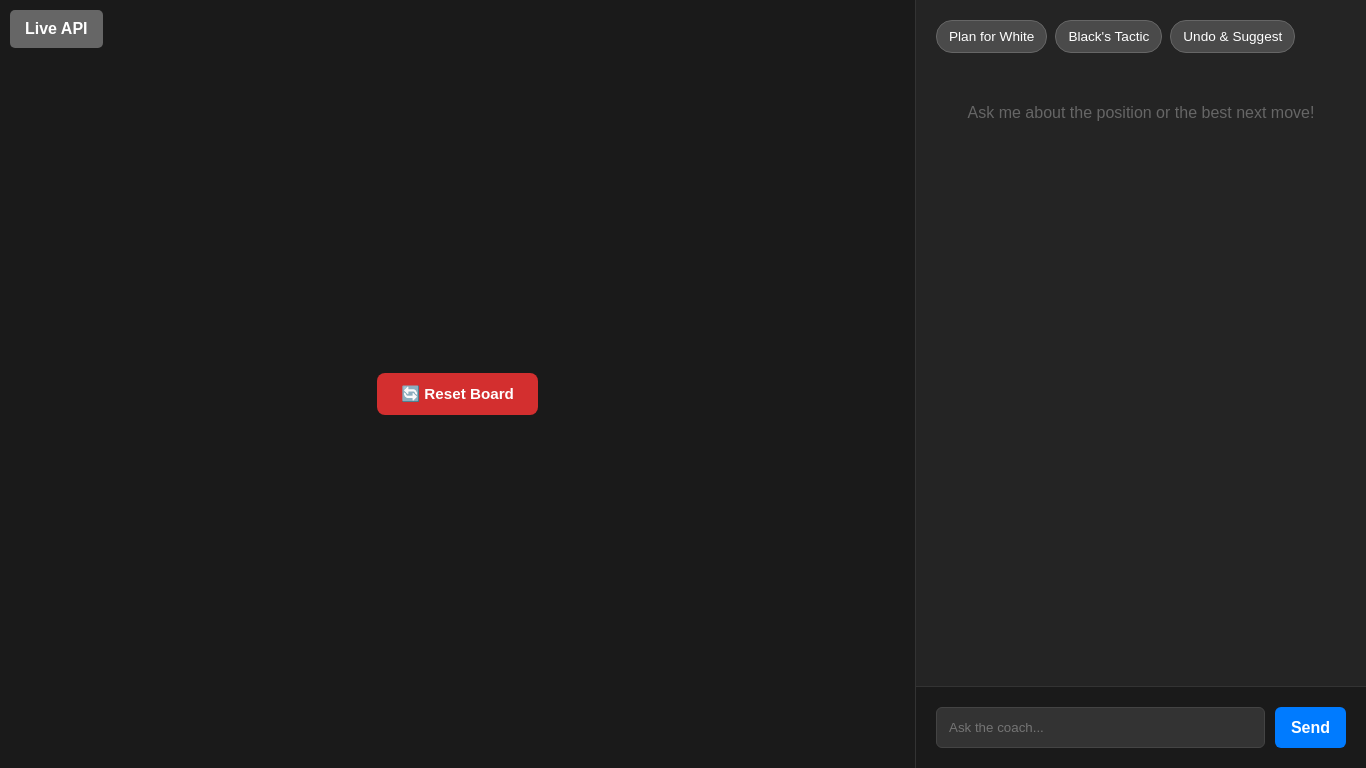
Scenario: Verification Harness - Desync Detection › VERIFICATION: Multi-action sequence maintains state integrity
This screenshot has width=1366, height=768.
In the field with placeholder "Ask the coach...": (1100, 728) [936,707,1265,748], type "Show sequence"
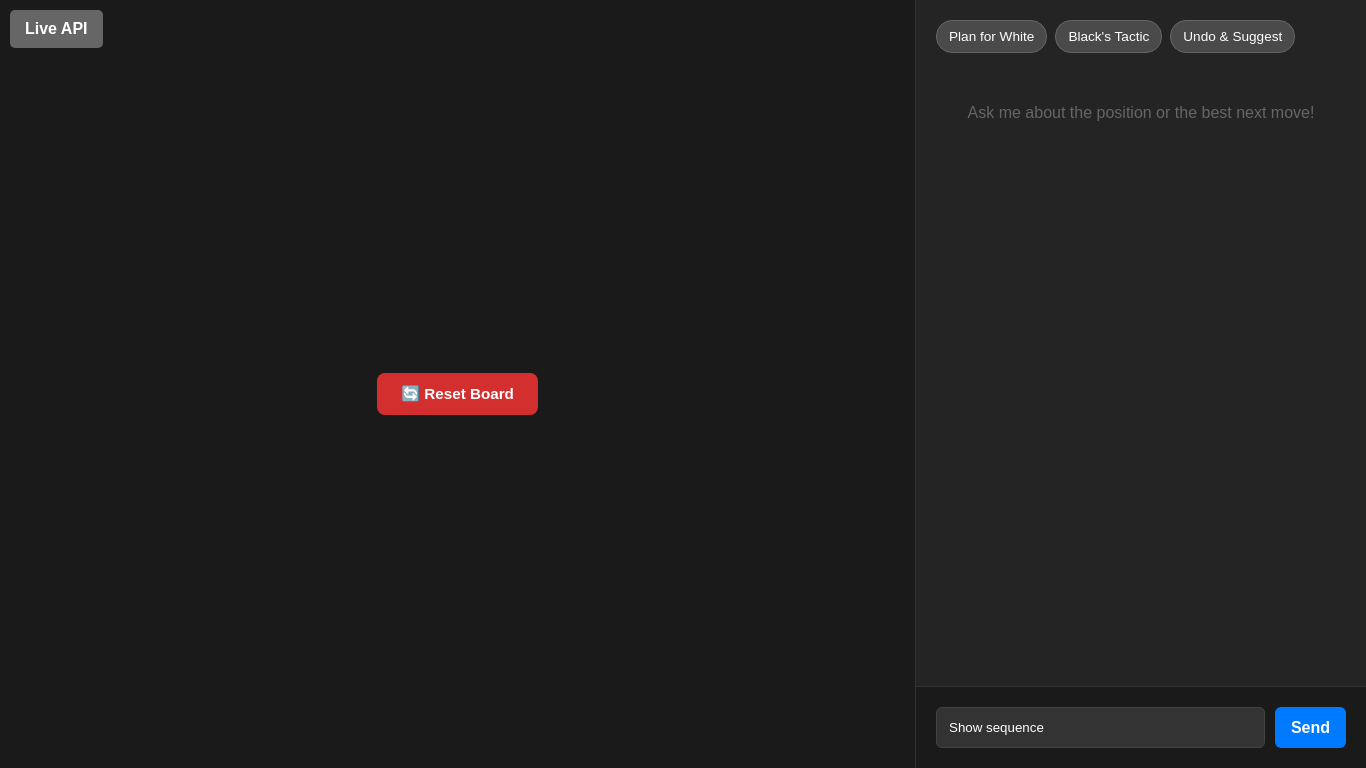
Click the button "Send": (1310, 728) [1275,707,1346,748]
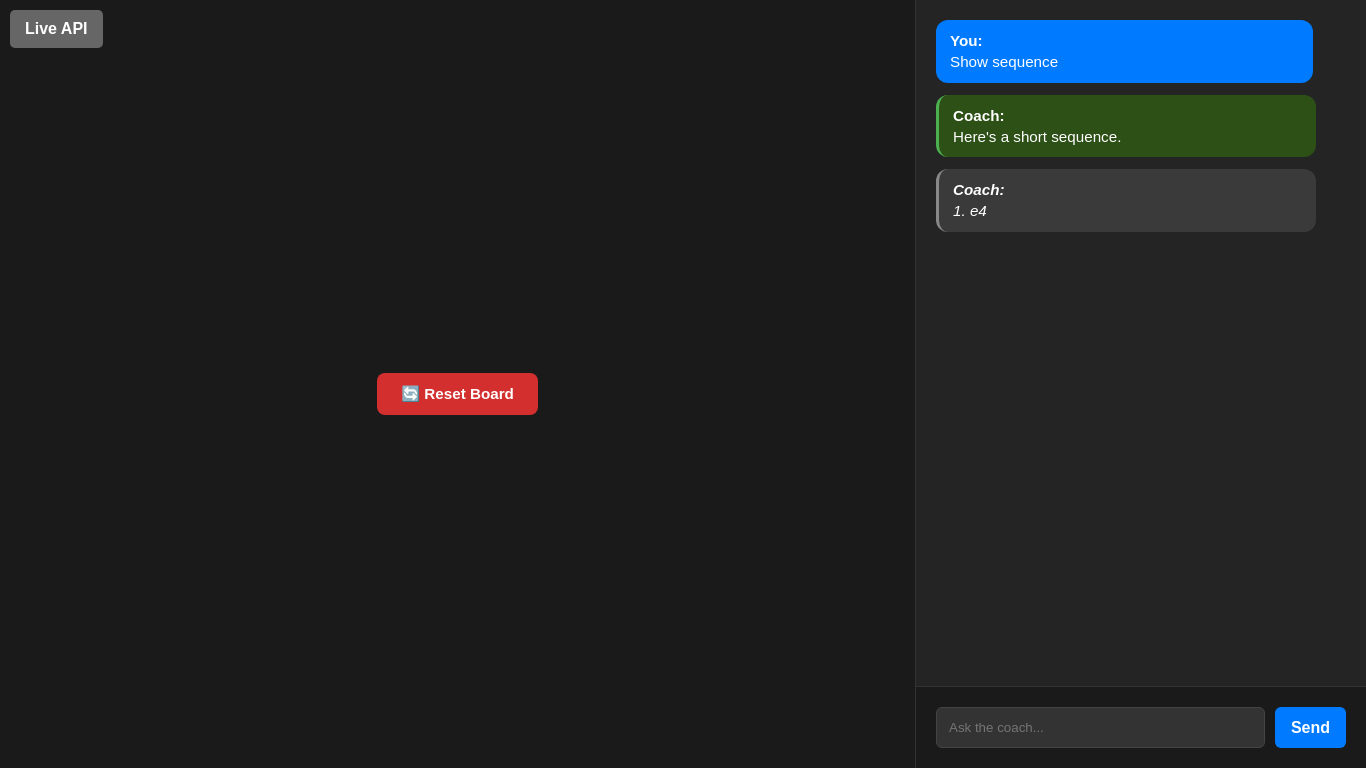
Expected: the text "Coach:Here's a short sequence." is shown, [936,95,1316,157]
